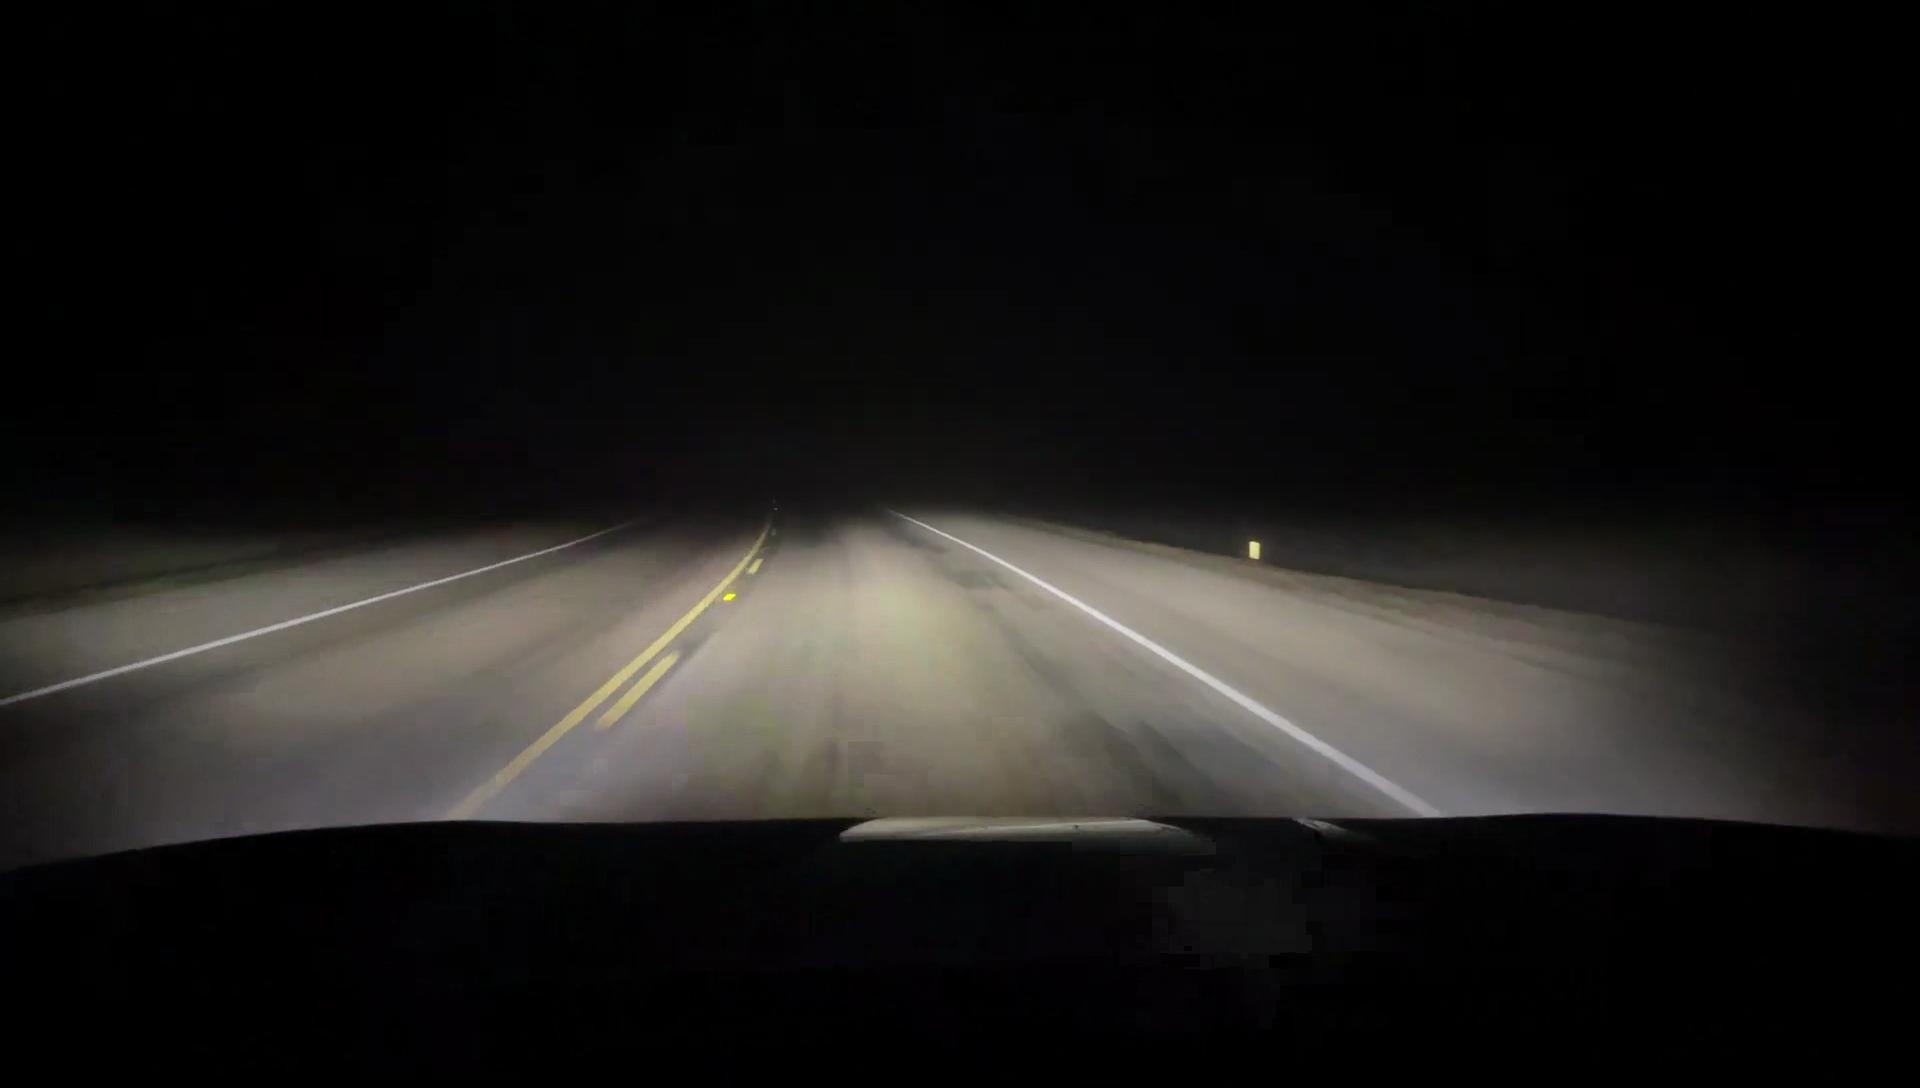road-lanes: (496, 513, 1445, 812)
